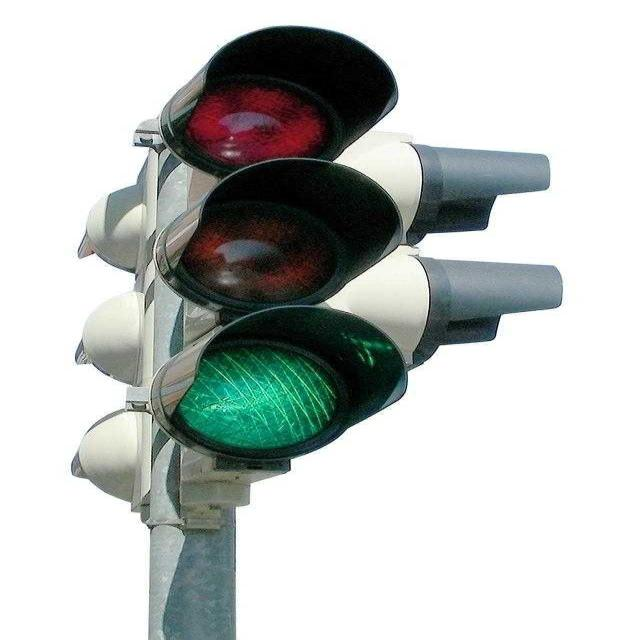Traffic Light -Green-: (146, 15, 424, 498)
